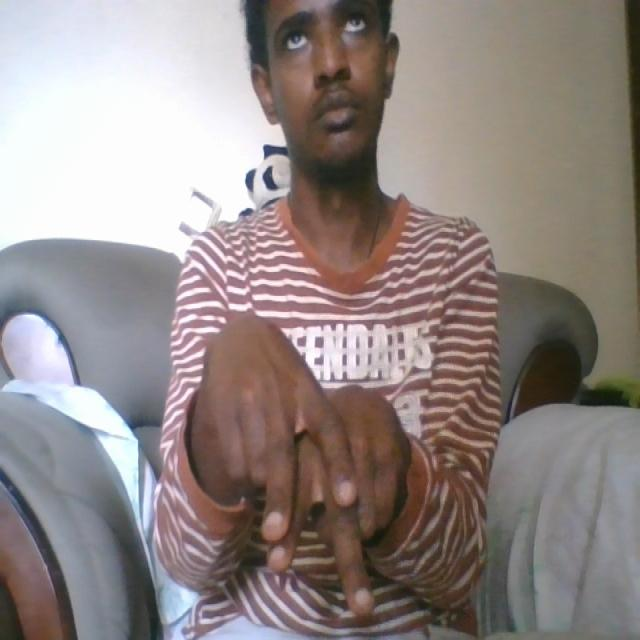babur: (196, 309, 410, 621)
